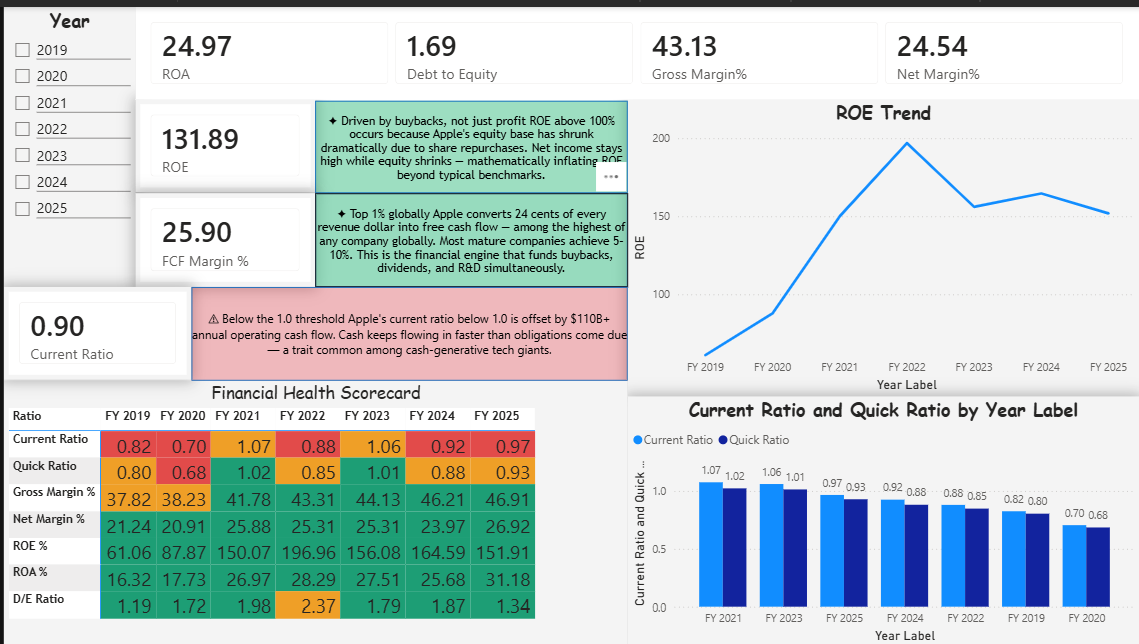

Layout of this report page (visuals, bound fields, positions):
{"tool":"powerbi","page":{"name":" Ratio Analysis Dashboard","canvas":[1280,720],"ordinal":4},"visuals":[{"type":"slicer","title":"Year","fields":{"Values":["Dim_Date.Year"]},"box":[0,0,148.2,315.5],"z":0},{"type":"lineChart","title":"ROE Trend","fields":{"Y":["_Measures.ROE"],"Category":["Dim_Date.Year Label"]},"box":[702.9,104.2,576.7,334.6],"z":1000},{"type":"clusteredColumnChart","fields":{"Category":["Dim_Date.Year Label"],"Y":["_Measures.Current Ratio","_Measures.Quick Ratio"]},"box":[702.9,438.8,576.7,281.7],"z":2000},{"type":"pivotTable","title":"Financial Health Scorecard","fields":{"Rows":["Ratio_Table.Ratio"],"Columns":["Dim_Date.Year Label"],"Values":["Ratio_Table.Ratio Value"]},"box":[0,421.2,702.9,297.9],"z":3000},{"type":"cardVisual","fields":{"Data":["_Measures.ROE"]},"box":[148.2,104.2,202.5,104.2],"z":4000},{"type":"shape","box":[350.7,105.7,352.2,104.2],"z":5000},{"type":"cardVisual","fields":{"Data":["_Measures.FCF Margin %"]},"box":[148.2,209.8,202.5,105.7],"z":6000},{"type":"cardVisual","fields":{"Data":["_Measures.Current Ratio"]},"box":[0,315.5,211.3,104.2],"z":7000},{"type":"shape","box":[350.7,209.8,352.2,105.7],"z":8000},{"type":"shape","box":[211.3,315.5,491.6,105.7],"z":9000},{"type":"cardVisual","fields":{"Data":["_Measures.ROA","_Measures.Debt to Equity","_Measures.Gross Margin%","_Measures.Net Margin%"]},"box":[148.2,0,1131.4,104.2],"z":10000}]}

Visuals, with their boxes in screenshot pixels (x1, y1, x2, y2), scaled from the page's 1280x720 canvas onto the 1139x644 screenshot:
"Year" slicer: {"x1": 0, "y1": 0, "x2": 132, "y2": 282}
"ROE Trend" lineChart: {"x1": 625, "y1": 93, "x2": 1138, "y2": 392}
clusteredColumnChart - Dim_Date.Year Label x _Measures.Current Ratio: {"x1": 625, "y1": 392, "x2": 1138, "y2": 643}
"Financial Health Scorecard" pivotTable: {"x1": 0, "y1": 377, "x2": 625, "y2": 643}
cardVisual - _Measures.ROE: {"x1": 132, "y1": 93, "x2": 312, "y2": 186}
shape: {"x1": 312, "y1": 95, "x2": 625, "y2": 188}
cardVisual - _Measures.FCF Margin %: {"x1": 132, "y1": 188, "x2": 312, "y2": 282}
cardVisual - _Measures.Current Ratio: {"x1": 0, "y1": 282, "x2": 188, "y2": 375}
shape: {"x1": 312, "y1": 188, "x2": 625, "y2": 282}
shape: {"x1": 188, "y1": 282, "x2": 625, "y2": 377}
cardVisual - _Measures.ROA x _Measures.Debt to Equity: {"x1": 132, "y1": 0, "x2": 1138, "y2": 93}
